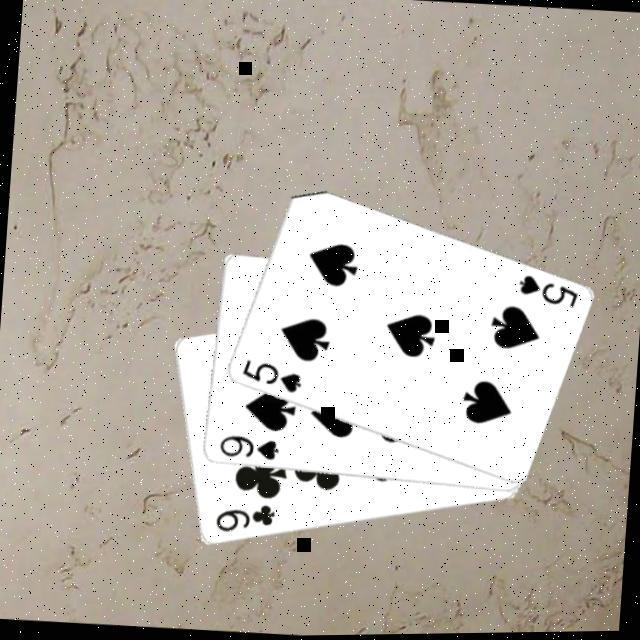5S: (511, 273, 579, 316), (234, 357, 302, 399)
9C: (209, 500, 277, 541)
9S: (212, 433, 280, 467)
